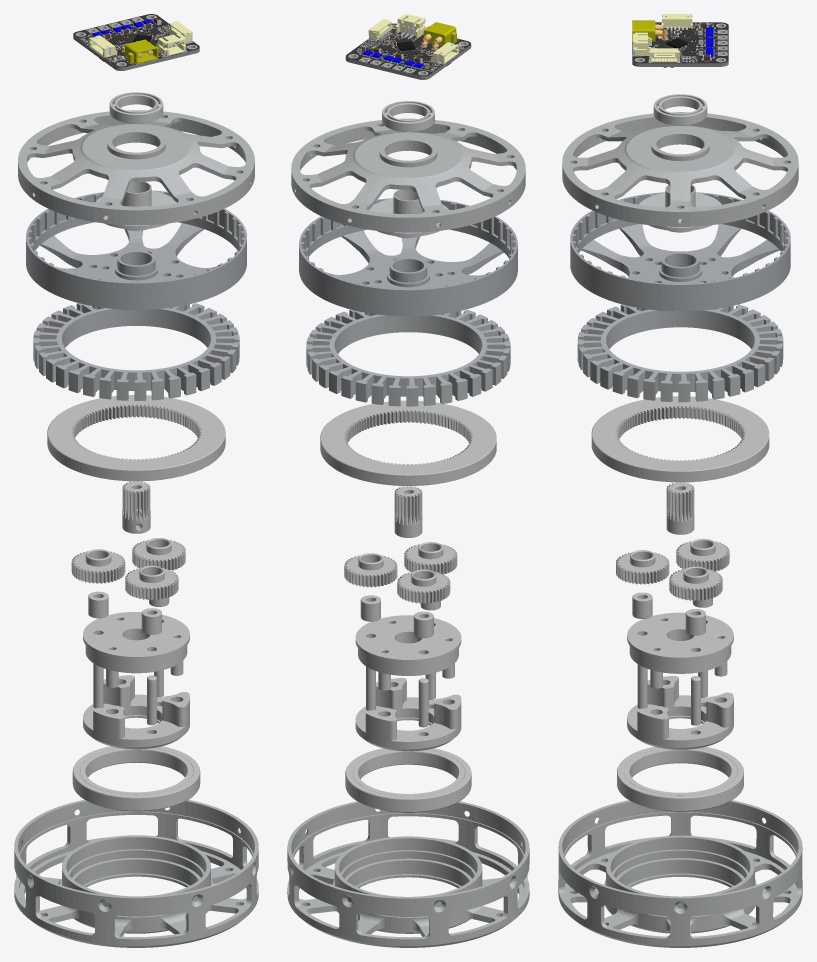
File: actuator.web.glb
The picture shows the model from 3 angles, left to right: view 1: azimuth 30°, elevation 25°; view 2: azimuth 150°, elevation 25°; view 3: azimuth 270°, elevation 25°; orthographic projection.
Parts seen in each view (by area): view 1: Front housing, Back housing, Motor rotor, Motor stator, Ring gear, Planet carrier / upper, Planet carrier / lower, Controller / moteus C1, Output bearing / 06, Output bearing / 02, Planet gear B, Planet gear A (+7 smaller); view 2: Front housing, Back housing, Motor rotor, Motor stator, Ring gear, Planet carrier / upper, Controller / moteus C1, Planet carrier / lower, Output bearing / 06, Output bearing / 02, Planet gear B, Planet gear C (+8 smaller); view 3: Front housing, Back housing, Motor rotor, Motor stator, Ring gear, Planet carrier / upper, Planet carrier / lower, Controller / moteus C1, Output bearing / 06, Output bearing / 02, Planet gear A, Planet gear C (+6 smaller).
Boxes of the visible parts, left/top/right/bottom form: Front housing: left=14, top=800, right=258, bottom=947; Back housing: left=18, top=110, right=254, bottom=225; Motor rotor: left=26, top=190, right=246, bottom=309; Motor stator: left=33, top=303, right=239, bottom=400; Ring gear: left=47, top=395, right=225, bottom=481; Planet carrier / upper: left=83, top=612, right=189, bottom=687; Planet carrier / lower: left=83, top=675, right=189, bottom=749; Controller / moteus C1: left=73, top=14, right=199, bottom=70; Output bearing / 06: left=72, top=746, right=200, bottom=811; Output bearing / 02: left=80, top=748, right=192, bottom=794; Planet gear B: left=71, top=549, right=125, bottom=583; Planet gear A: left=125, top=565, right=178, bottom=600; Front housing: left=287, top=801, right=529, bottom=947; Back housing: left=291, top=118, right=525, bottom=232; Motor rotor: left=299, top=198, right=517, bottom=316; Motor stator: left=306, top=309, right=510, bottom=406; Ring gear: left=320, top=400, right=496, bottom=485; Planet carrier / upper: left=355, top=615, right=461, bottom=690; Controller / moteus C1: left=345, top=14, right=471, bottom=79; Planet carrier / lower: left=355, top=678, right=461, bottom=751; Output bearing / 06: left=345, top=748, right=471, bottom=812; Output bearing / 02: left=352, top=750, right=464, bottom=795; Planet gear B: left=397, top=569, right=450, bottom=603; Planet gear C: left=344, top=553, right=397, bottom=587; Front housing: left=558, top=800, right=802, bottom=947; Back housing: left=562, top=112, right=798, bottom=226; Motor rotor: left=570, top=192, right=790, bottom=311; Motor stator: left=577, top=304, right=783, bottom=402; Ring gear: left=591, top=396, right=769, bottom=482; Planet carrier / upper: left=627, top=612, right=733, bottom=688; Planet carrier / lower: left=627, top=675, right=733, bottom=749; Controller / moteus C1: left=632, top=14, right=728, bottom=67; Output bearing / 06: left=617, top=746, right=743, bottom=811; Output bearing / 02: left=624, top=748, right=736, bottom=794; Planet gear A: left=616, top=550, right=669, bottom=584; Planet gear C: left=669, top=566, right=722, bottom=600.
Bounding box in the file's own units: 96 × 379 × 96.
1 material, 1 textured.
